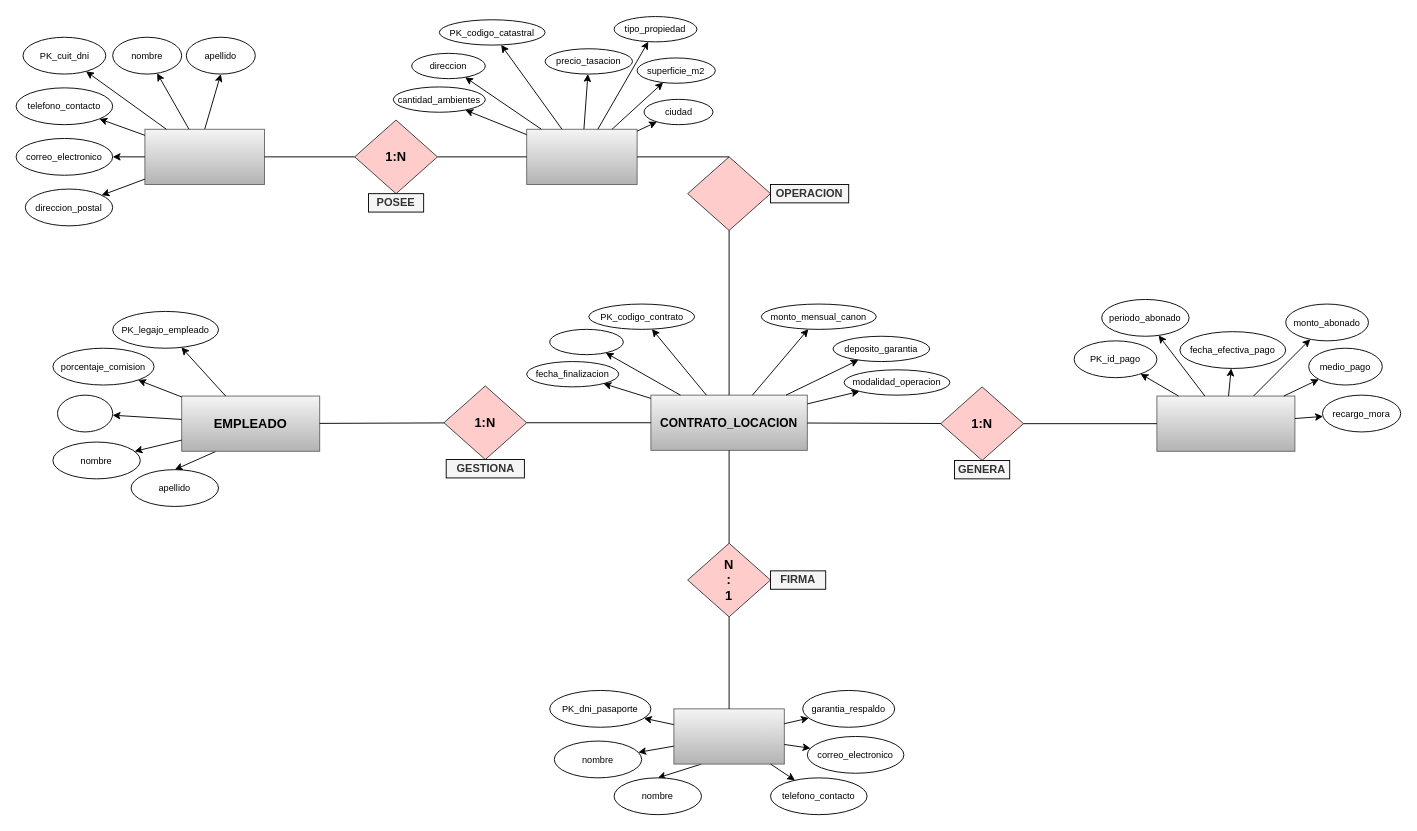
The diagram is 1417 pixels wide and 831 high, and some of its shapes have lost their labels. The shapes that lost their labels are listed below. From the top down, each one's box as (x1, y1, x2, y2) in pixels, then its label:
(144, 128, 264, 184): PROPIETARIO
(526, 128, 637, 184): PROPIEDAD
(687, 156, 770, 230): 1 : N
(549, 328, 623, 355): fecha_inicio
(57, 394, 113, 432): DNI
(1156, 395, 1295, 451): PAGO_MENSUAL
(673, 708, 784, 764): INQUILINO
